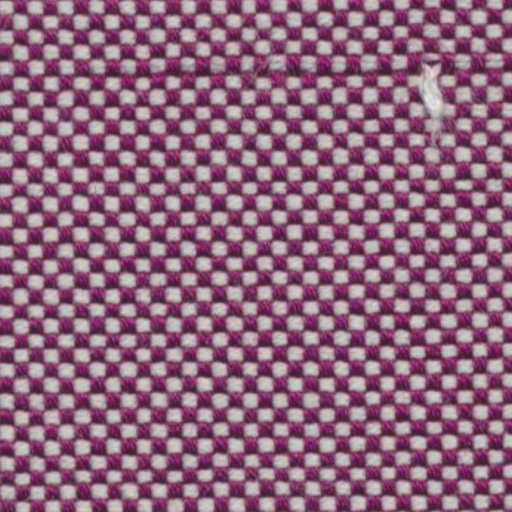DuanSha: (405, 55, 456, 138)
